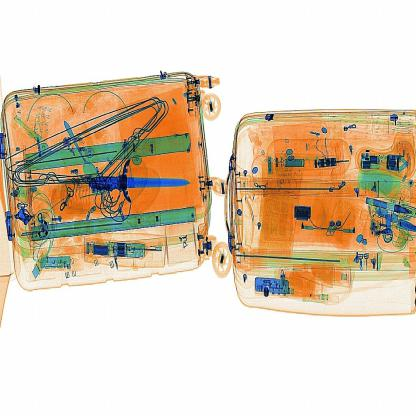wrench: (76, 157, 194, 207)
